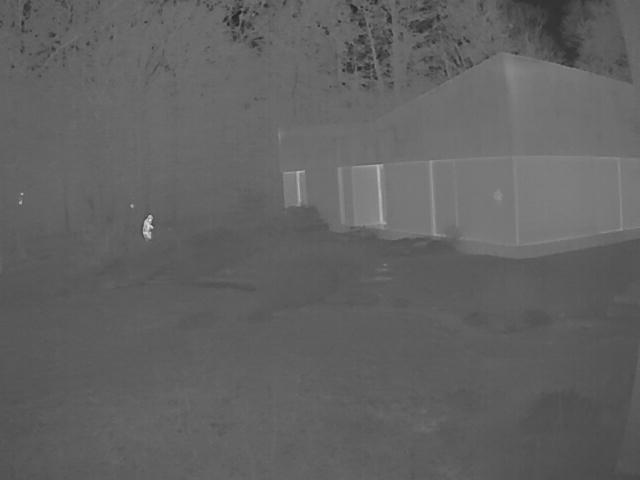person: (143, 212, 156, 240)
